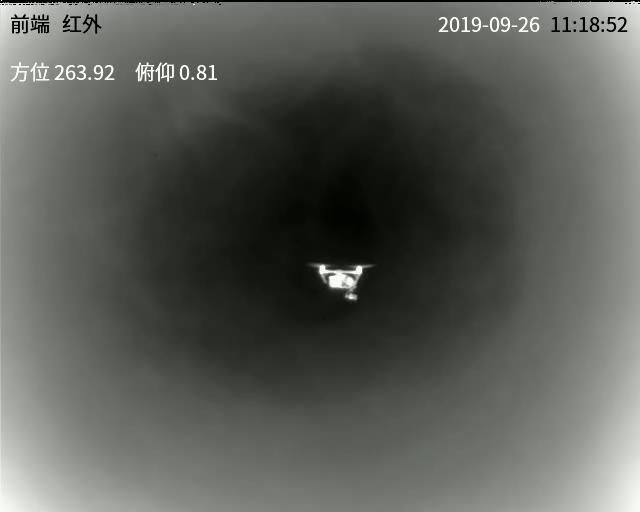uav: (297, 256, 370, 306)
